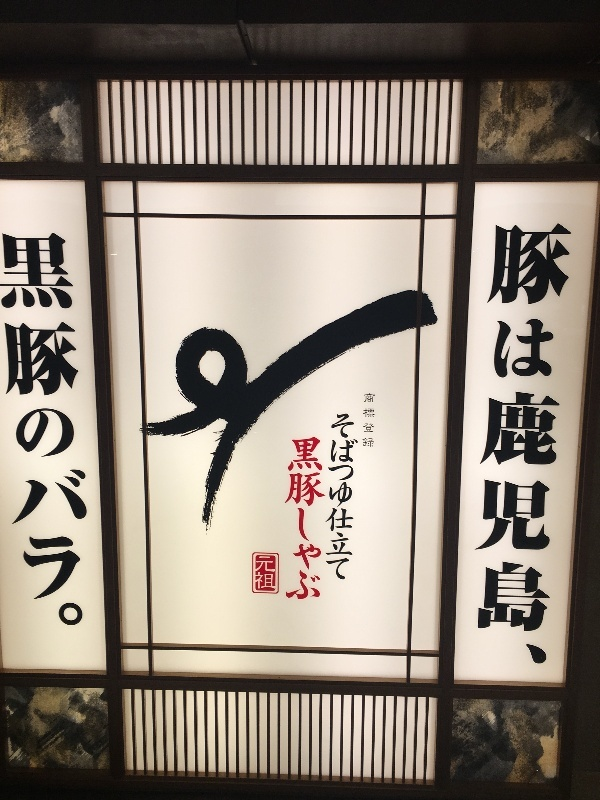text: (497, 214, 512, 672), (513, 214, 528, 672), (529, 214, 544, 672), (545, 214, 560, 672), (561, 214, 575, 672), (1, 227, 16, 641), (17, 227, 32, 641), (33, 227, 48, 641), (49, 227, 64, 641), (65, 227, 80, 641), (81, 227, 96, 641), (337, 412, 352, 582), (289, 436, 304, 604), (305, 436, 320, 604), (493, 214, 496, 672), (329, 412, 336, 582), (353, 412, 359, 582), (321, 436, 326, 604), (97, 227, 99, 641), (257, 555, 272, 594), (285, 436, 288, 604), (369, 391, 376, 449), (363, 391, 368, 449), (273, 555, 276, 594), (255, 555, 256, 594)
